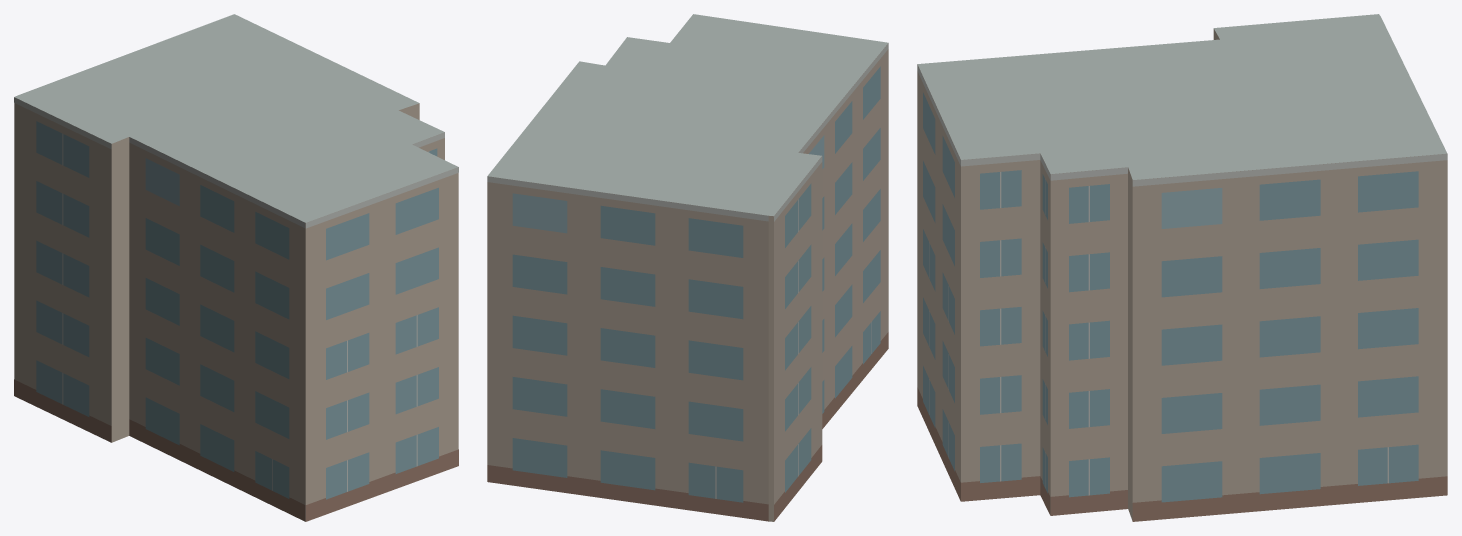
File: survey-upis-32873170.glb
The picture shows the model from 3 angles, left to right: view 1: azimuth 30°, elevation 25°; view 2: azimuth 150°, elevation 25°; view 3: azimuth 270°, elevation 25°; orthographic projection. The views are drawn at different scales.
Parts seen in each view (by area): view 1: survey-upis-32873170.tmp; view 2: survey-upis-32873170.tmp; view 3: survey-upis-32873170.tmp.
Part boxes in pixels (x1,y1,x2,y2): survey-upis-32873170.tmp: (14,14,458,521); survey-upis-32873170.tmp: (487,14,888,521); survey-upis-32873170.tmp: (917,14,1447,521).
Size of the model in its own units: 13.36 by 12.8 by 18.01.
